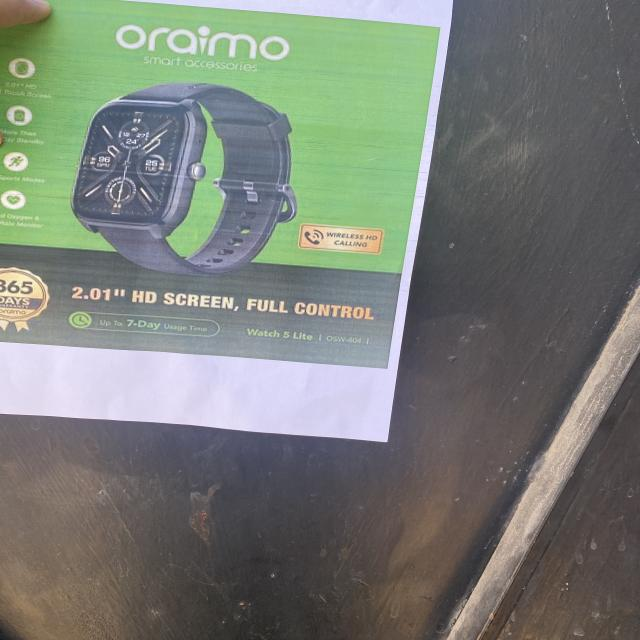Watch 5 Lite OSW-804: (241, 321, 375, 348)
